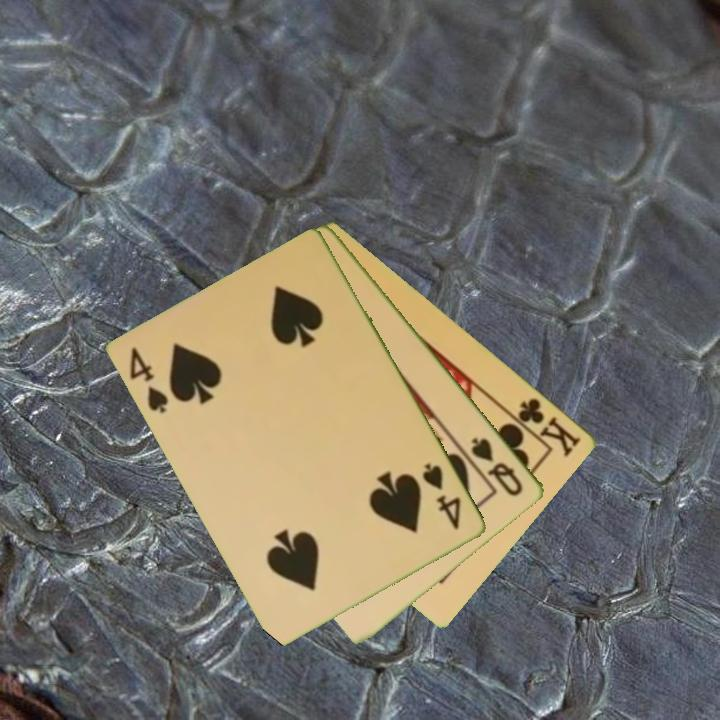4s: (419, 459, 465, 533), (126, 343, 172, 417)
Kc: (505, 394, 584, 460)
Qs: (467, 434, 527, 500)
